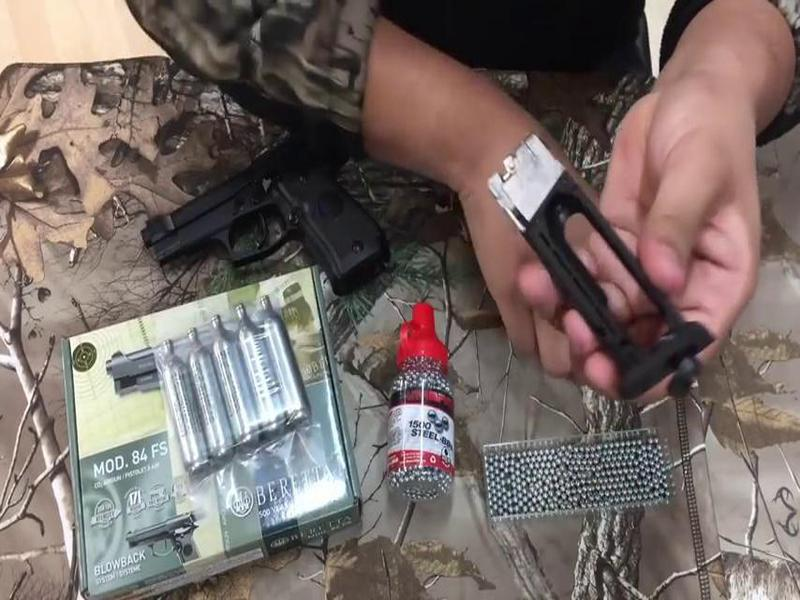Pistola: (132, 118, 387, 295)
